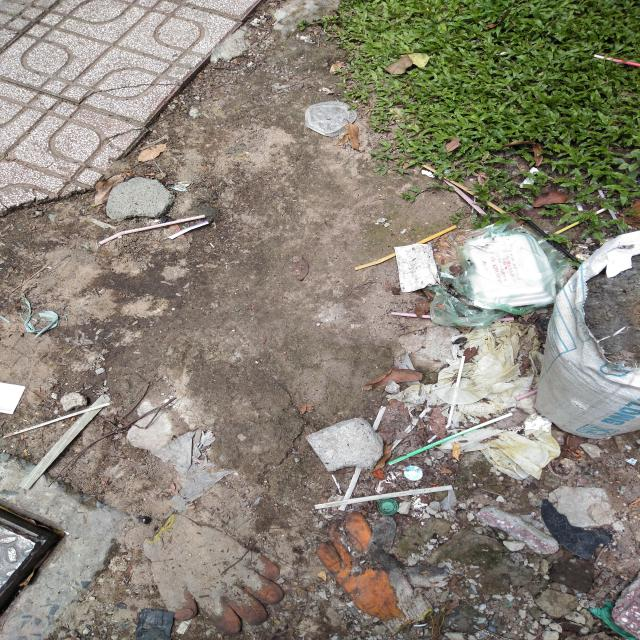litter: (461, 232, 558, 310), (388, 410, 515, 468), (330, 403, 390, 513), (351, 220, 459, 276), (0, 399, 108, 442), (314, 478, 455, 508), (95, 212, 207, 240), (385, 306, 512, 328), (439, 353, 470, 428)
